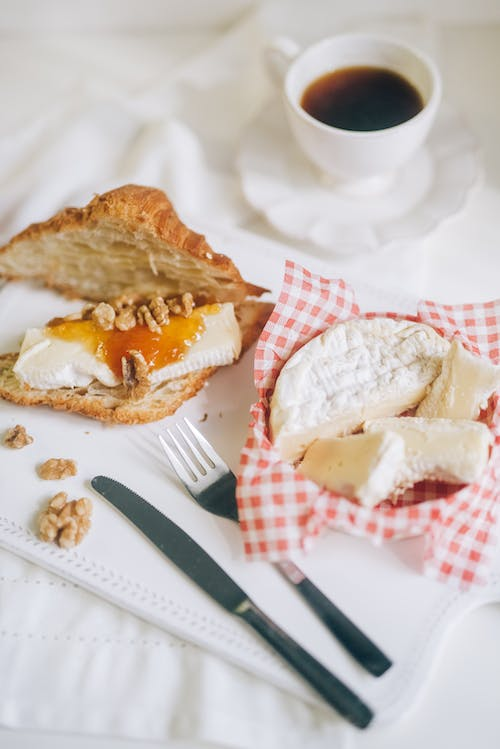knife: (89, 471, 377, 734)
